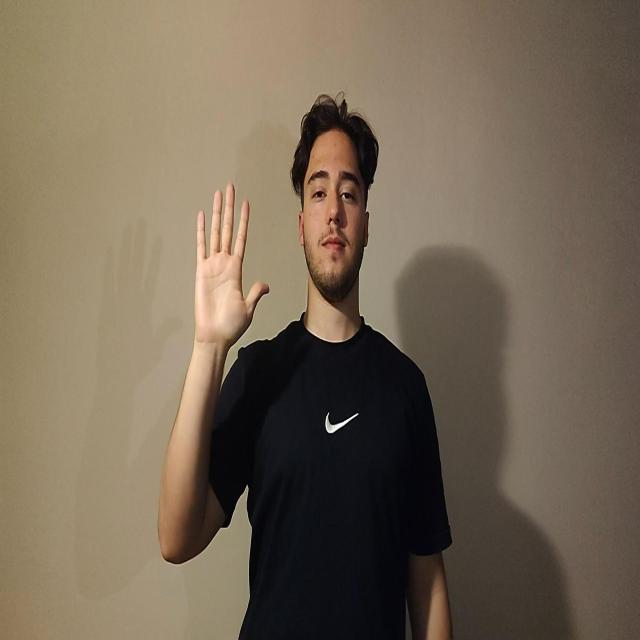hello: (193, 182, 270, 351)
